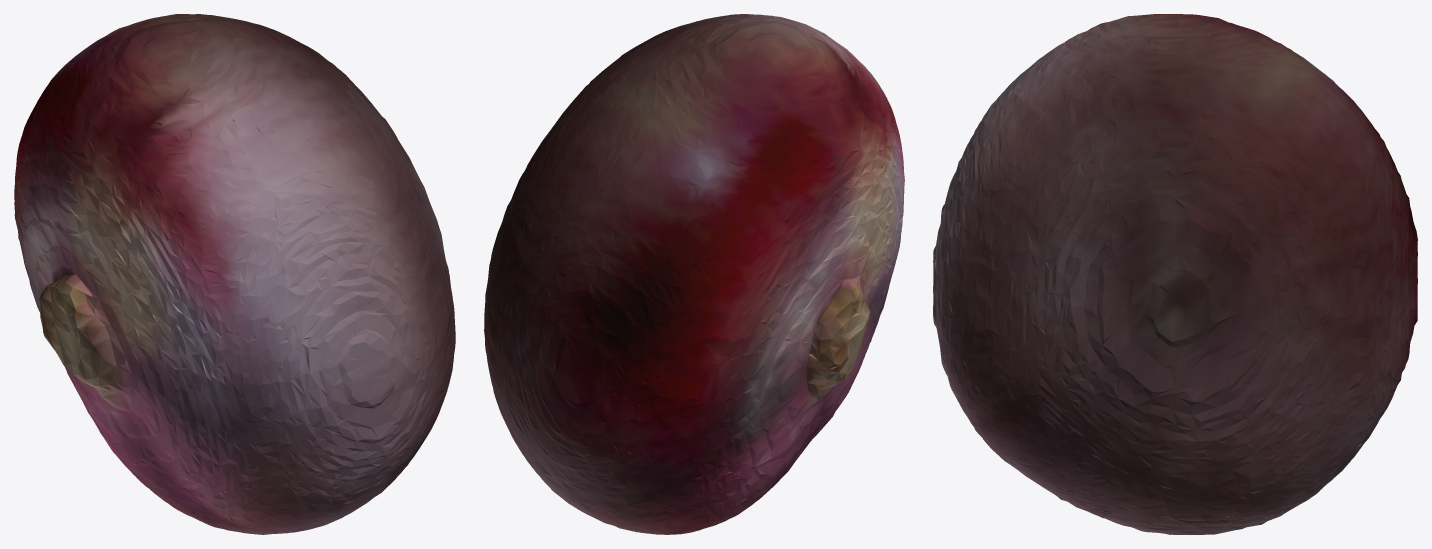
Rendered from onion_1.glb.
3 renders of one model, left to right at view 1: azimuth 30°, elevation 25°; view 2: azimuth 150°, elevation 25°; view 3: azimuth 270°, elevation 25°, orthographic. The views are drawn at different scales.
Visible parts, largest first — view 1: geometry_0; view 2: geometry_0; view 3: geometry_0.
Part boxes in pixels (x1,y1,x2,y2): geometry_0: (14, 14, 455, 534); geometry_0: (484, 14, 904, 534); geometry_0: (933, 14, 1417, 534).
Bounding box in the file's own units: 0.7354 × 1 × 0.9301.
